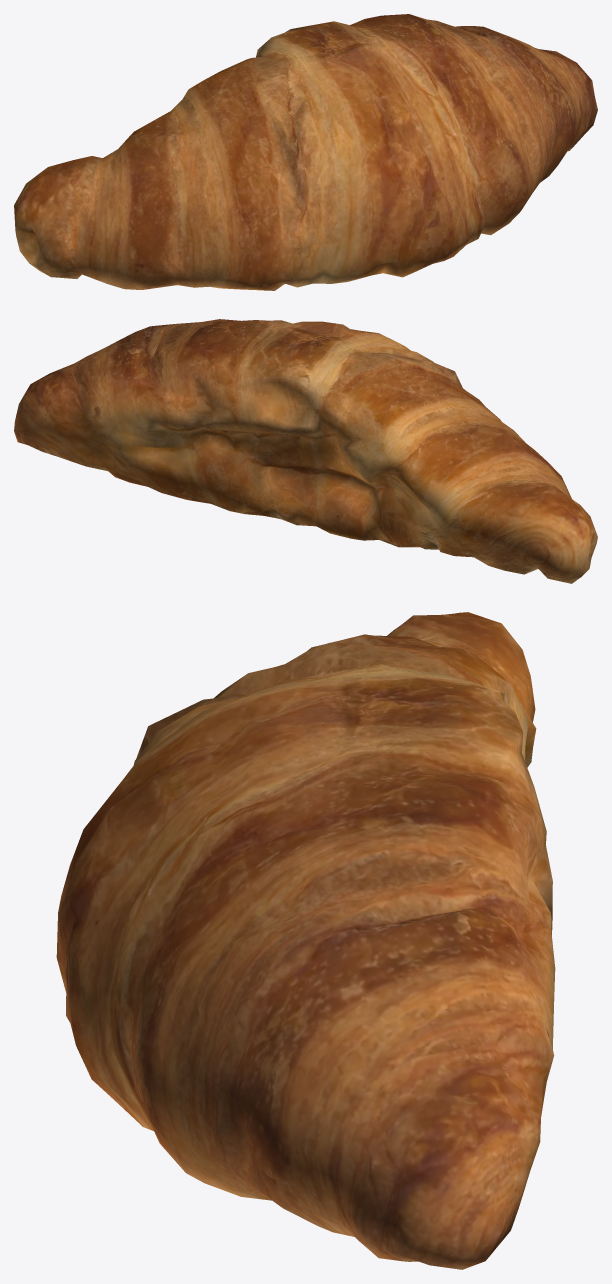
File: croissant-2k.glb
The picture shows the model from 3 angles, top to bottom: view 1: azimuth 30°, elevation 25°; view 2: azimuth 150°, elevation 25°; view 3: azimuth 270°, elevation 25°; orthographic projection. The views are drawn at different scales.
Visible parts, largest first — view 1: croissant; view 2: croissant; view 3: croissant.
Part boxes in pixels (x1,y1,x2,y2): croissant: (14, 14, 597, 290); croissant: (14, 319, 597, 583); croissant: (56, 612, 555, 1269).
Size of the model in its own units: 0.2 by 0.062 by 0.0755.
1 material, 1 textured.
